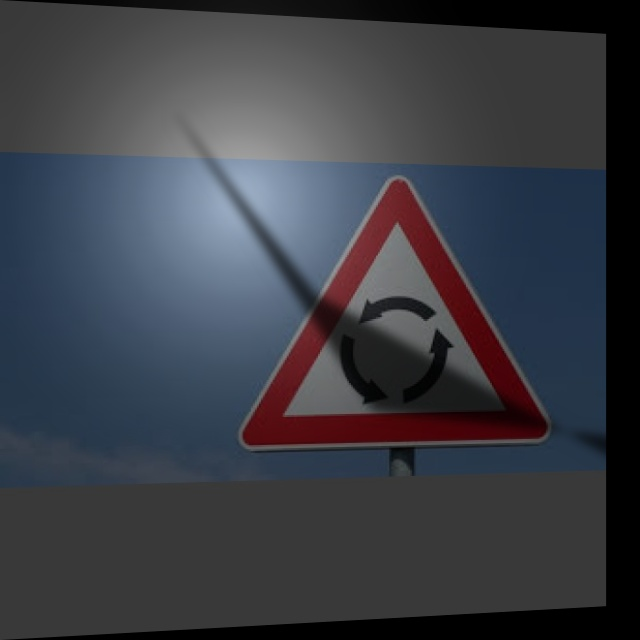Round_About: (244, 166, 540, 449)
